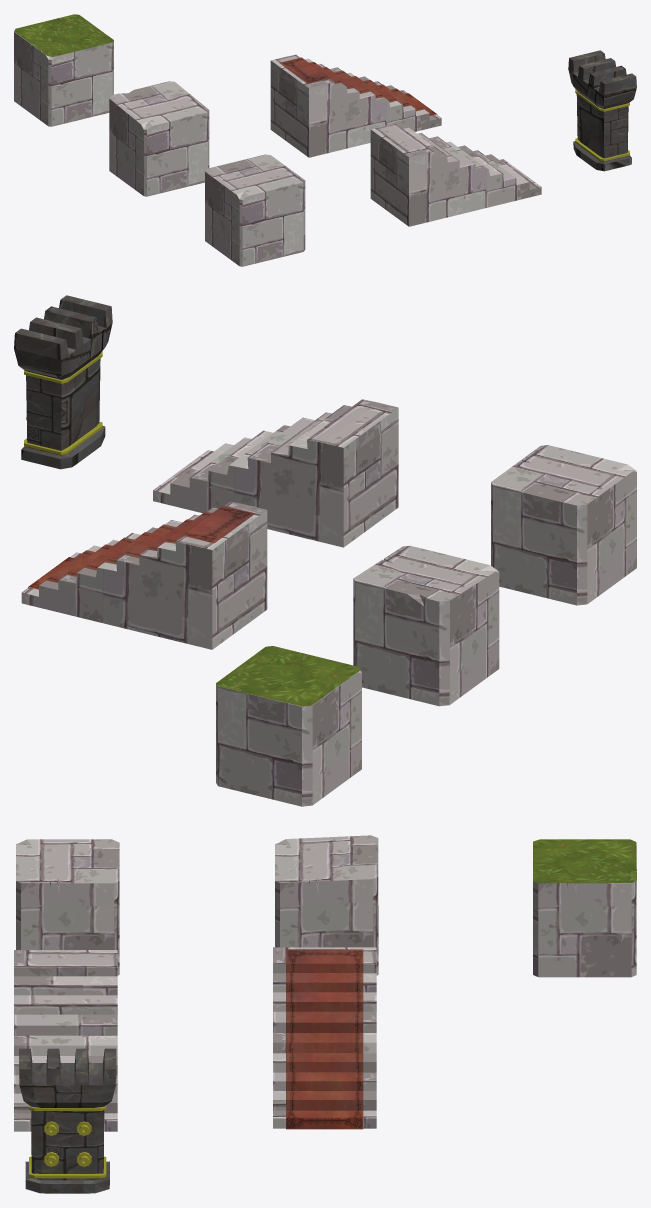
Rendered from packed_meshes.glb.
The picture shows the model from 3 angles, top to bottom: view 1: azimuth 30°, elevation 25°; view 2: azimuth 150°, elevation 25°; view 3: azimuth 270°, elevation 25°; orthographic projection. The views are drawn at different scales.
Parts seen in each view (by area): view 1: StairsStone, StairsStoneCarpet, BlockStoneTilted, BlockStone, BlockGrass, TrapArrowLauncher; view 2: StairsStoneCarpet, StairsStone, BlockStoneTilted, BlockGrass, BlockStone, TrapArrowLauncher; view 3: StairsStoneCarpet, BlockGrass, StairsStone, TrapArrowLauncher, BlockStoneTilted, BlockStone.
Part boxes in pixels (left/top/right/bottom): StairsStone: left=370, top=123, right=541, bottom=226; StairsStoneCarpet: left=270, top=54, right=441, bottom=157; BlockStoneTilted: left=109, top=81, right=209, bottom=196; BlockStone: left=205, top=154, right=305, bottom=266; BlockGrass: left=14, top=14, right=113, bottom=126; TrapArrowLauncher: left=568, top=50, right=636, bottom=171; StairsStoneCarpet: left=21, top=501, right=267, bottom=649; StairsStone: left=153, top=399, right=398, bottom=547; BlockStoneTilted: left=353, top=545, right=499, bottom=706; BlockGrass: left=216, top=646, right=361, bottom=806; BlockStone: left=491, top=445, right=636, bottom=605; TrapArrowLauncher: left=14, top=295, right=112, bottom=469; StairsStoneCarpet: left=273, top=947, right=376, bottom=1129; BlockGrass: left=533, top=839, right=636, bottom=977; StairsStone: left=14, top=950, right=117, bottom=1131; TrapArrowLauncher: left=19, top=1048, right=116, bottom=1193; BlockStoneTilted: left=275, top=835, right=378, bottom=975; BlockStone: left=16, top=839, right=119, bottom=975.
Size of the model in its own units: 12.03 by 2.68 by 12.03.
Materials: 5 (4 with a texture image).
